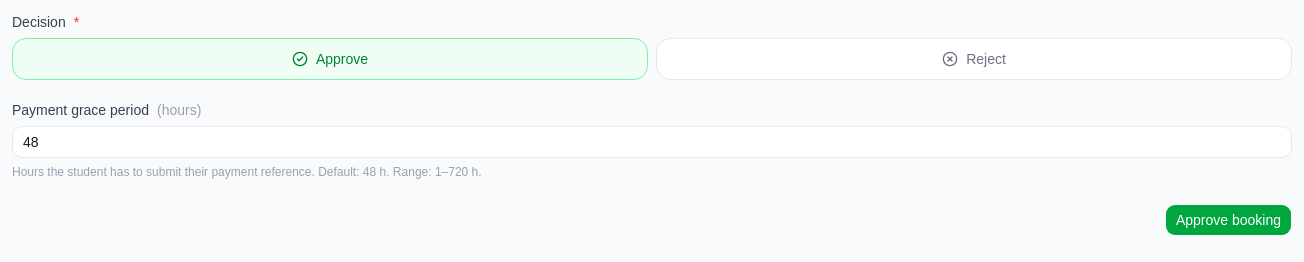
Scenario: ActionBookingForm › switches to the reject decision and swaps in the reason textarea
This screenshot has width=1304, height=262.
Click the button "Reject": (974, 59) [656, 38, 1292, 80]
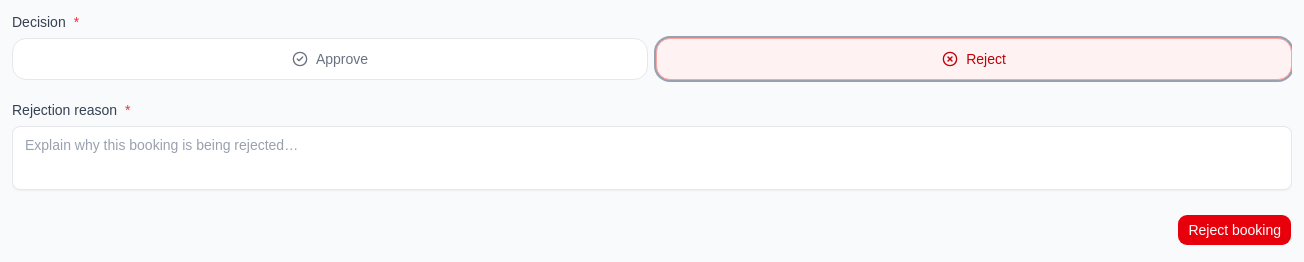
Result: the text box labelled "Rejection reason *" is shown at [12, 126, 1292, 190]
Result: the label labelled "Payment grace period" is gone
